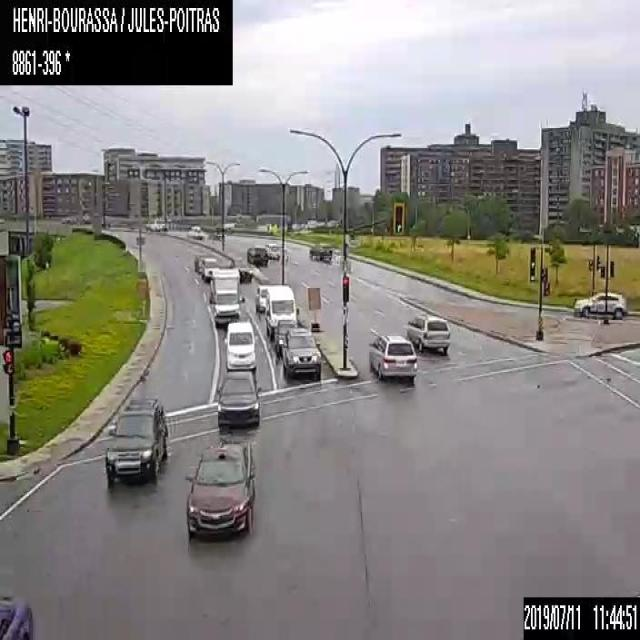vehicle: (183, 434, 254, 542), (102, 396, 168, 487), (216, 370, 261, 428), (368, 333, 416, 378), (208, 267, 244, 327), (283, 328, 320, 380), (222, 320, 258, 370), (406, 313, 449, 354), (266, 284, 298, 338), (572, 291, 628, 320), (0, 592, 34, 639), (273, 318, 297, 352), (228, 256, 252, 282), (246, 242, 267, 266), (309, 242, 333, 262), (200, 256, 218, 280), (255, 284, 268, 310), (144, 216, 166, 231), (264, 242, 280, 259), (186, 224, 203, 237), (194, 254, 206, 272)
